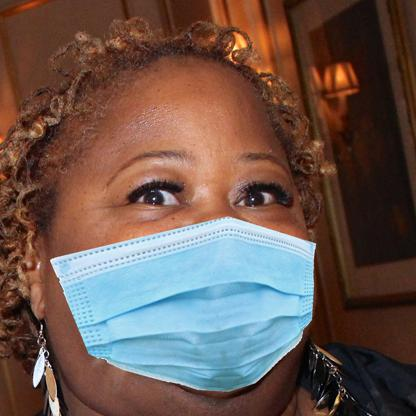mask: (49, 214, 319, 389)
